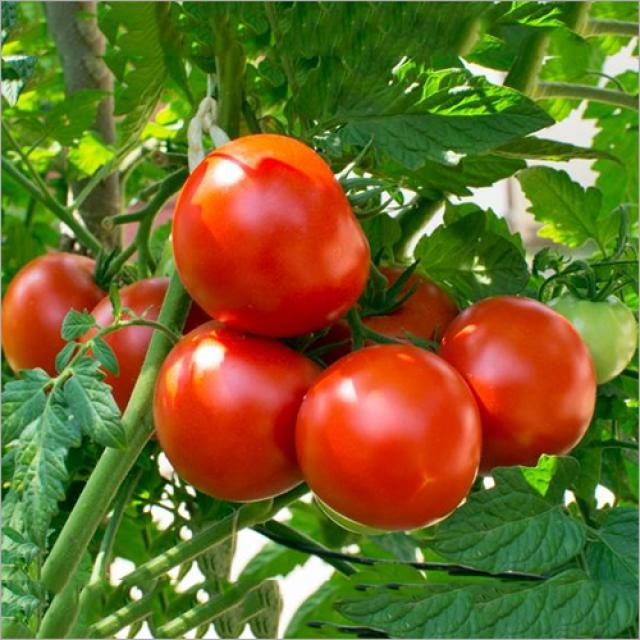kirmizi: (160, 128, 602, 512)
